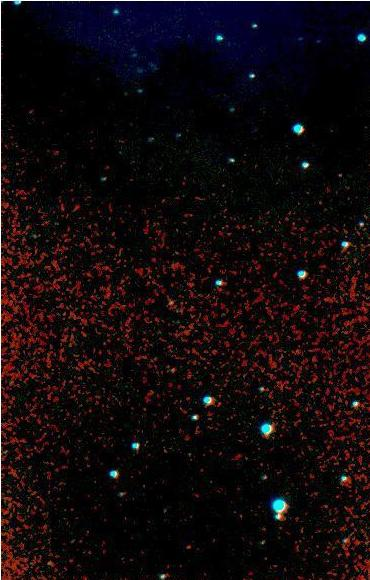star: (171, 528, 201, 558)
